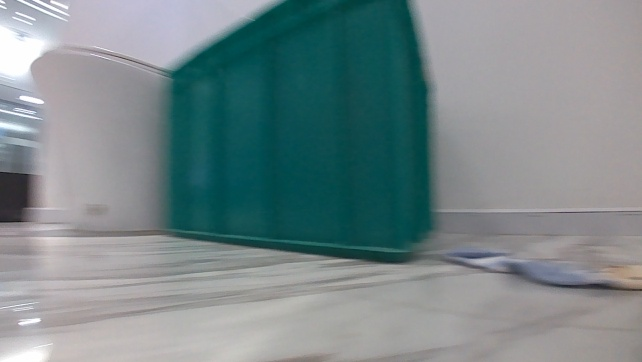socks: (437, 243, 641, 293)
toilet: (27, 39, 175, 235)
